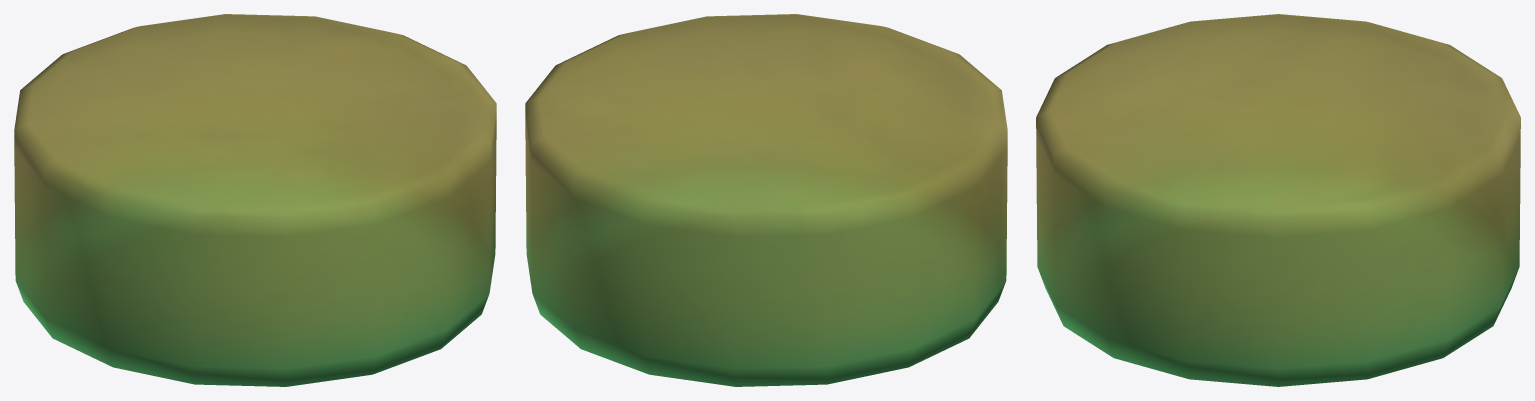
The model's file is bottle_content_b.glb.
3 renders of one model, left to right at view 1: azimuth 30°, elevation 25°; view 2: azimuth 150°, elevation 25°; view 3: azimuth 270°, elevation 25°, orthographic.
Parts seen in each view (by area): view 1: chemistry_set_bottle_content_b.001; view 2: chemistry_set_bottle_content_b.001; view 3: chemistry_set_bottle_content_b.001.
Part boxes in pixels (left/top/right/bottom): chemistry_set_bottle_content_b.001: left=14, top=14, right=496, bottom=386; chemistry_set_bottle_content_b.001: left=525, top=14, right=1007, bottom=386; chemistry_set_bottle_content_b.001: left=1036, top=14, right=1520, bottom=386.
Bounding box in the file's own units: 0.0454 × 0.0192 × 0.0454.
1 material, 1 textured.
